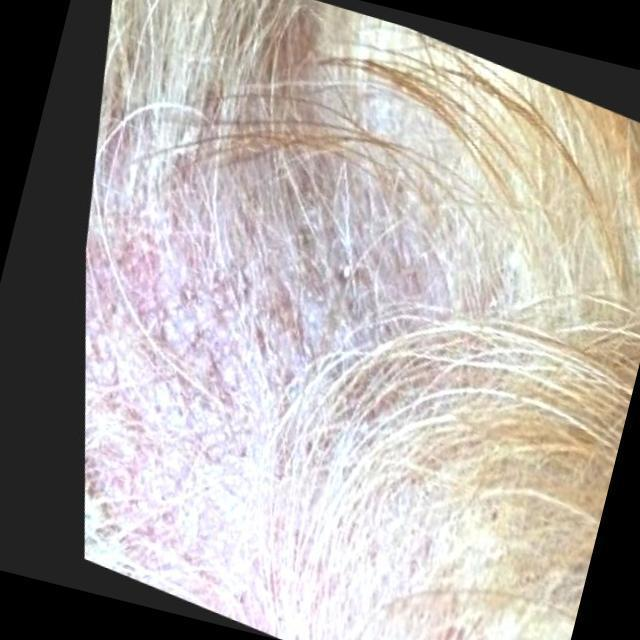fungal infection: (33, 193, 444, 602)
